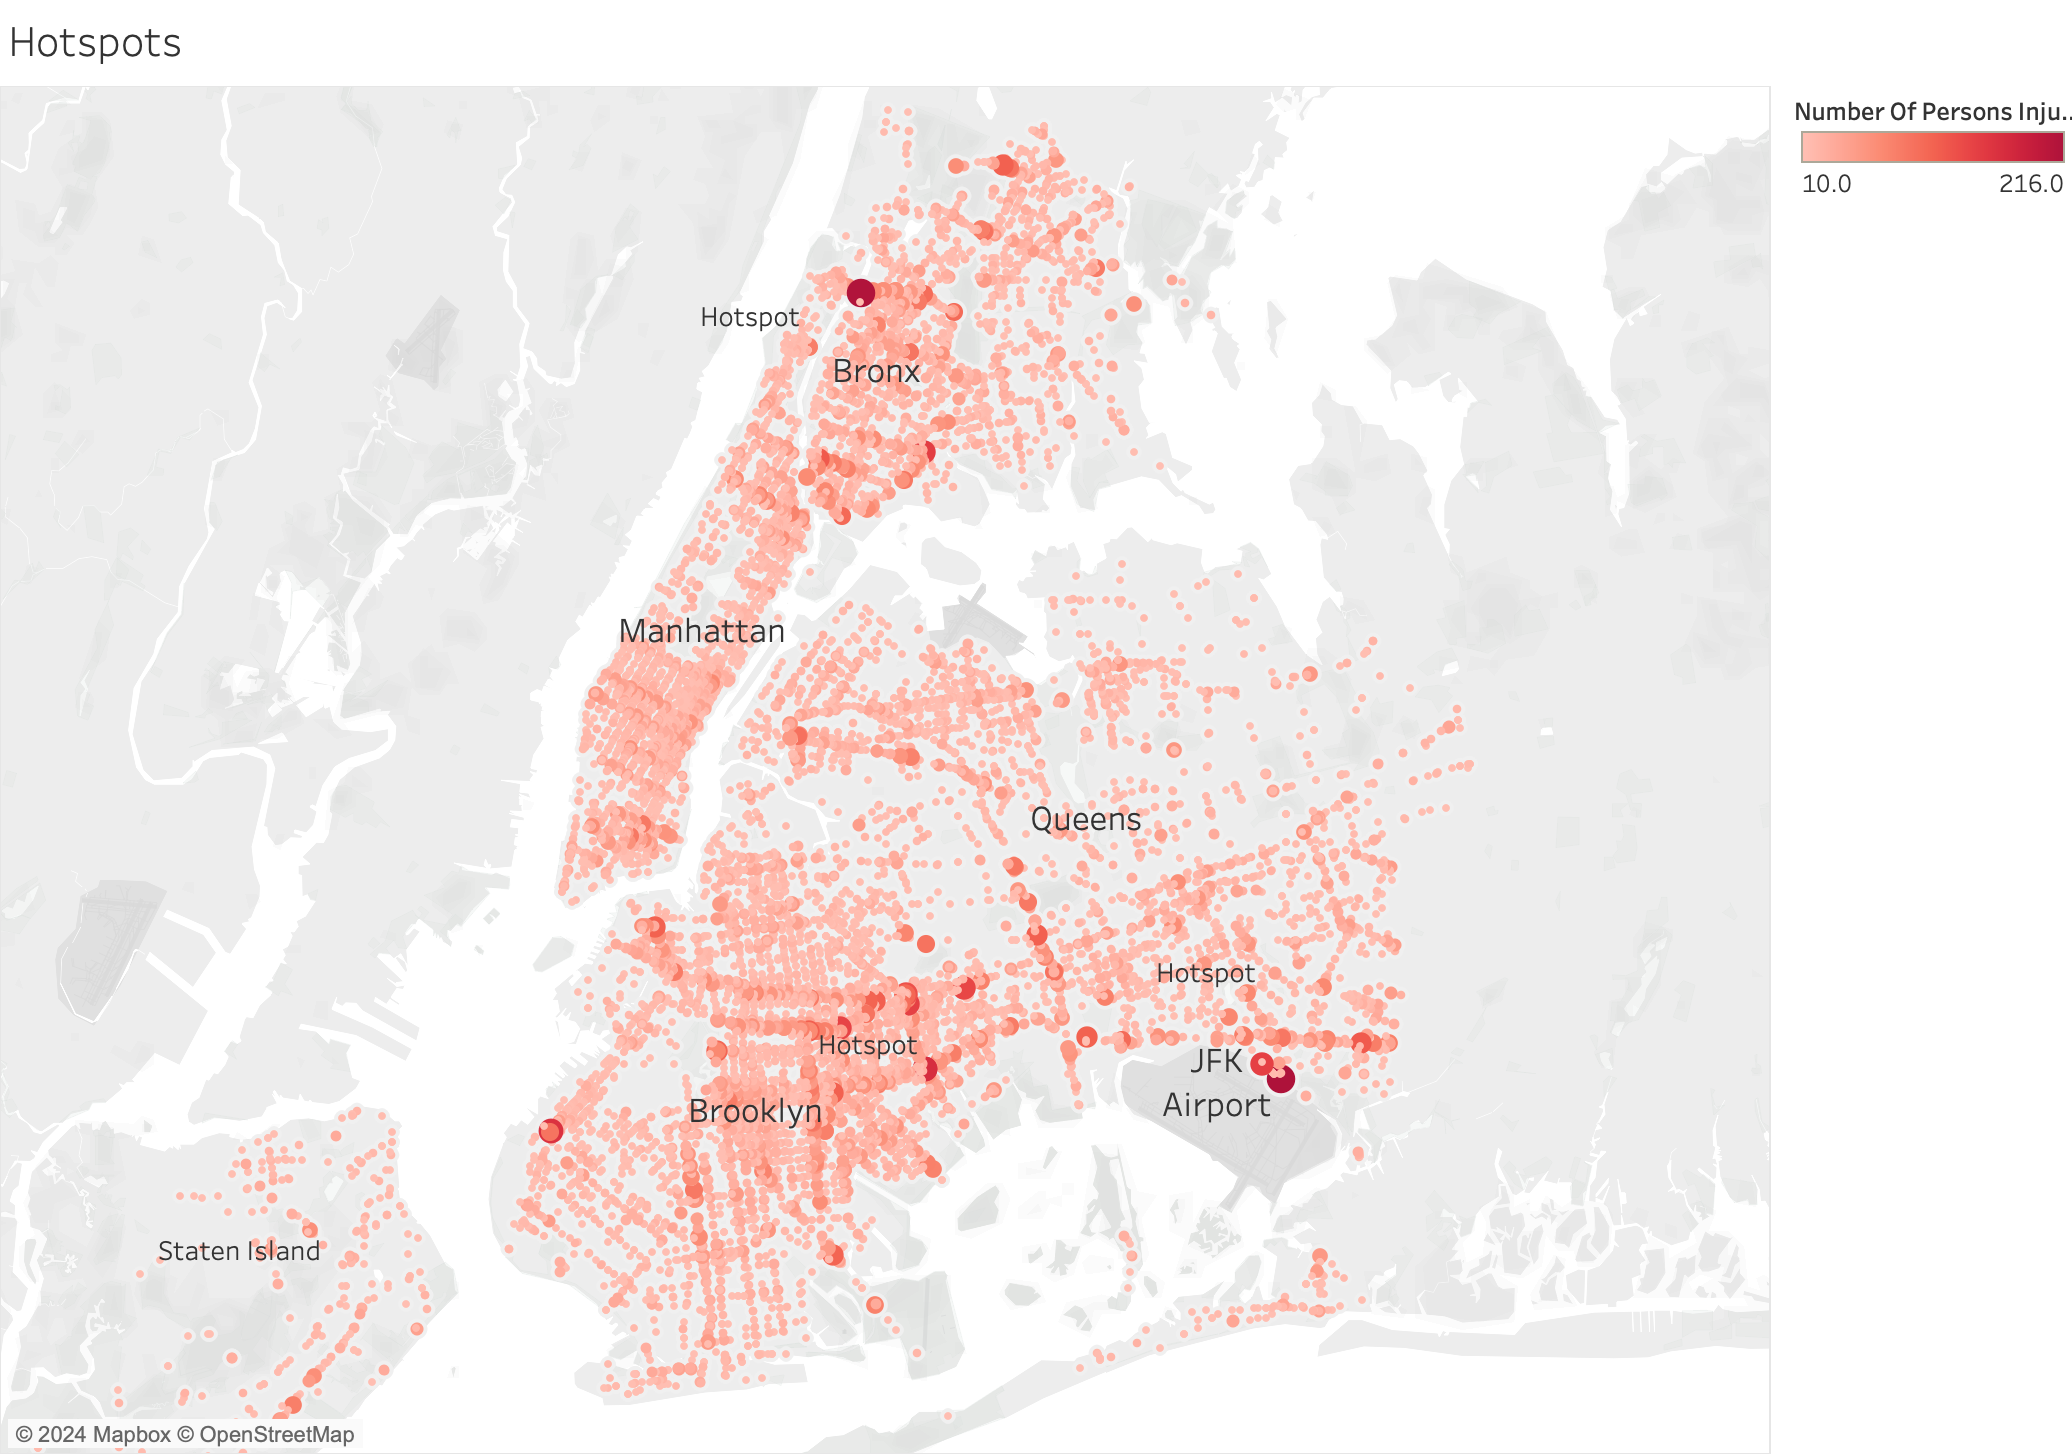

This screenshot's page, from the dashboard's own definition file:
{"tool":"tableau","page":{"name":"Dashboard 1","canvas":[1000,1000],"units":"permille","ordinal":0},"visuals":[{"type":"worksheet","title":"Sheet 1","mark":"Automatic","rows":["LATITUDE"],"cols":["LONGITUDE"],"box":[6.5,11.4,856.8,977.2]},{"type":"legend","title":"Sheet 1","param":"[federated.1myyyvv1h2nzx114ohmcz0o926mb].[sum:NUMBER OF PERSONS INJURED:qk]","box":[863.3,11.4,130.2,92.6]}]}

Visuals, with their boxes on the dashboard's canvas, which has no fixed pixel size, in thousandths of its width and height (x1, y1, x2, y2). These are canvas units, not pixel positions in the 2072x1454 screenshot, which may show the page scaled, cropped or inside an application window:
"Sheet 1" worksheet: select_region(6, 11, 863, 989)
"Sheet 1" legend: select_region(863, 11, 994, 104)
